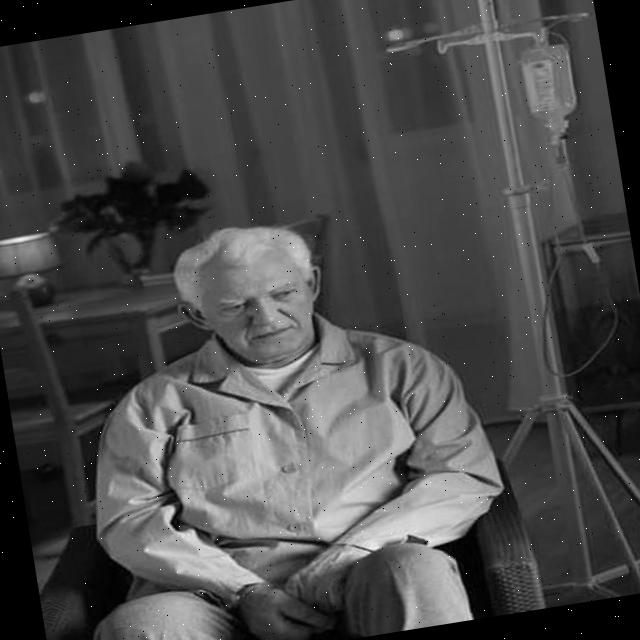Sadness: (208, 256, 312, 366)
